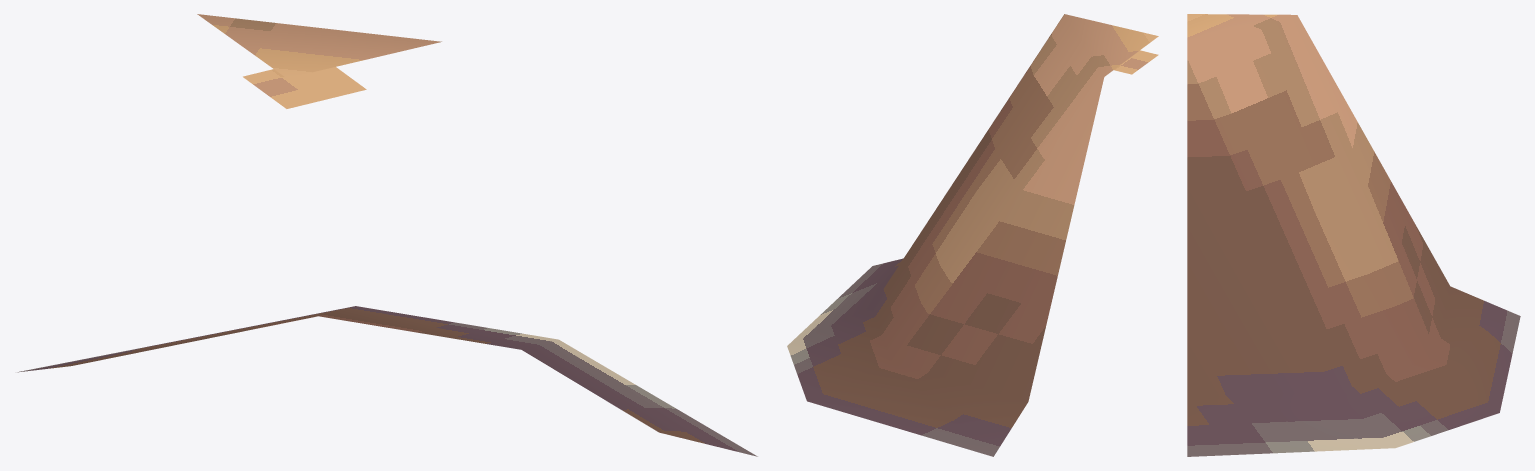
3 renders of one model, left to right at view 1: azimuth 30°, elevation 25°; view 2: azimuth 150°, elevation 25°; view 3: azimuth 270°, elevation 25°, orthographic. The views are drawn at different scales.
Bounding box in the file's own units: 1 × 1 × 1.
Materials: 3 (3 with a texture image).
